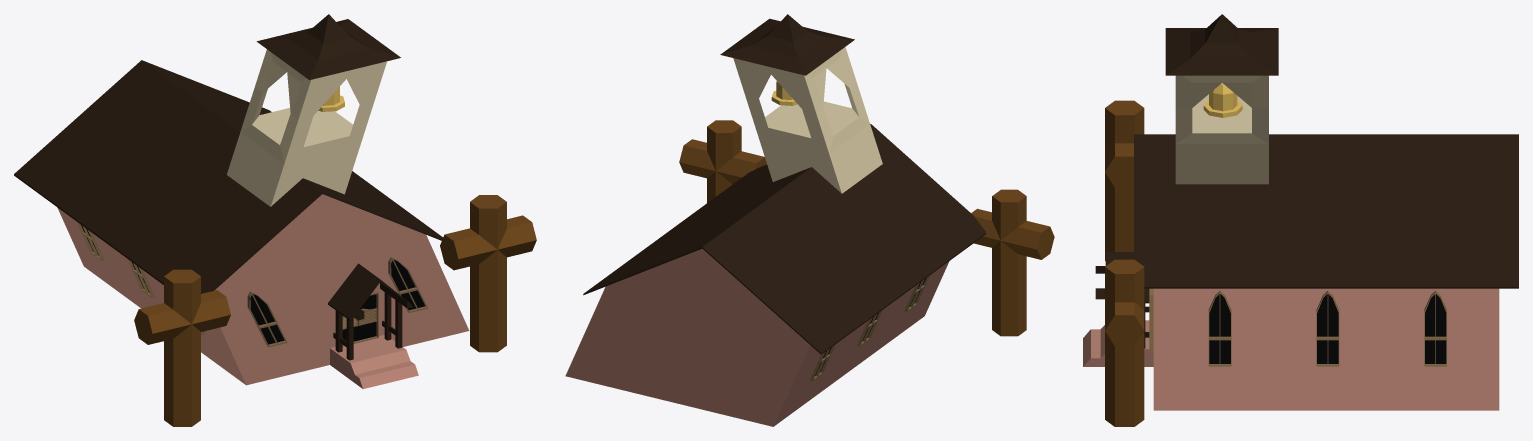
File: Church.fbx
3 renders of one model, left to right at view 1: azimuth 30°, elevation 25°; view 2: azimuth 150°, elevation 25°; view 3: azimuth 270°, elevation 25°, orthographic. The views are drawn at different scales.
Visible parts, largest first — view 1: Cube.008, Cube.001, Cube.002, Cylinder.001, Cube.009, Cube.006, Cube.003, Plane, Cube.004, Plane.001, Cube.010, Plane.002; view 2: Cube.008, Cube.001, Cube.002, Cylinder.001, Cube.004; view 3: Cube.008, Cube.001, Cube.002, Cylinder.001, Plane.003, Cube.007, Cylinder.
Boxes of the visible parts, box(x1,y1,x2,y2) form: Cube.008: box(14, 60, 444, 293); Cube.001: box(57, 194, 469, 388); Cube.002: box(227, 14, 400, 206); Cylinder.001: box(134, 195, 536, 426); Cube.009: box(328, 263, 411, 320); Cube.006: box(247, 257, 427, 347); Cube.003: box(382, 292, 402, 348); Plane: box(250, 294, 284, 344); Cube.004: box(77, 222, 205, 334); Plane.001: box(391, 260, 424, 310); Cube.010: box(333, 310, 353, 360); Plane.002: box(342, 294, 376, 341); Cube.008: box(583, 124, 986, 354); Cube.001: box(565, 248, 949, 426); Cube.002: box(720, 14, 882, 193); Cylinder.001: box(679, 120, 1054, 336); Cube.004: box(810, 275, 929, 380); Cube.008: box(1134, 134, 1518, 288); Cube.001: box(1083, 288, 1499, 410); Cube.002: box(1165, 14, 1278, 184); Cylinder.001: box(1105, 100, 1144, 426); Plane.003: box(1209, 294, 1446, 363); Cube.007: box(1208, 290, 1446, 366); Cylinder: box(1203, 83, 1242, 117).
Size of the model in its own units: 4819 by 3905 by 4448.
